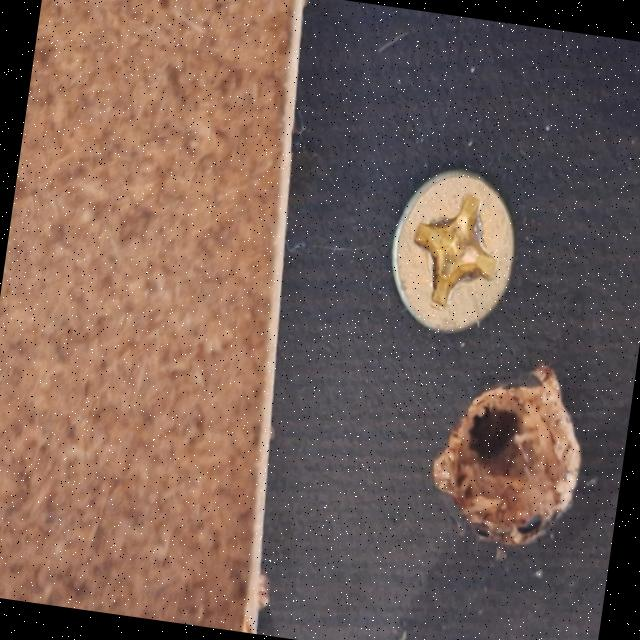Phillips: (364, 154, 540, 354)
